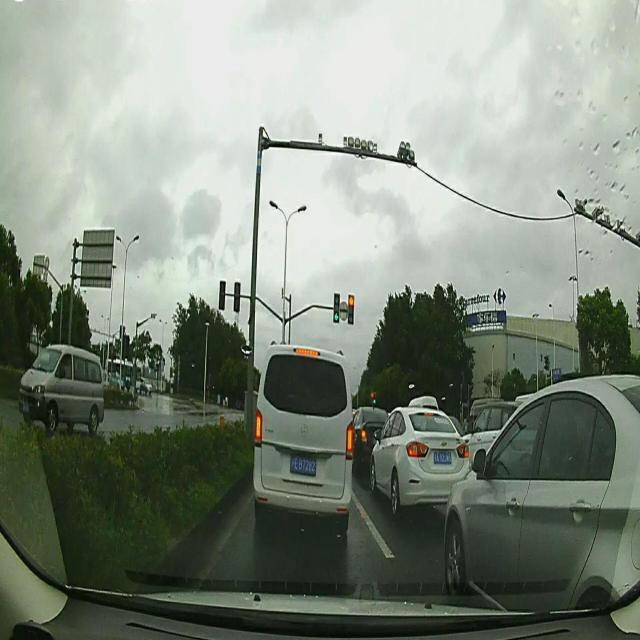car: (442, 374, 640, 634), (254, 342, 352, 512), (372, 407, 470, 508), (19, 342, 105, 433)
